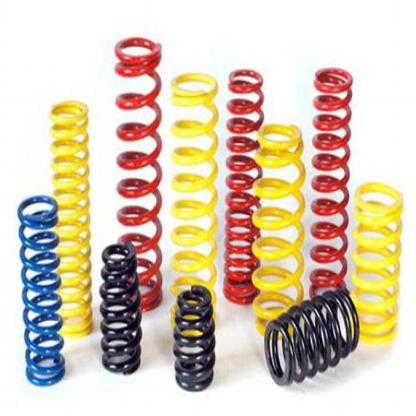FOD: (168, 70, 222, 344), (112, 34, 164, 313), (251, 119, 307, 346), (46, 94, 96, 341), (308, 64, 354, 311), (222, 65, 266, 307), (261, 289, 361, 391), (16, 193, 66, 389), (352, 181, 404, 351), (98, 240, 144, 378), (171, 281, 218, 393)
